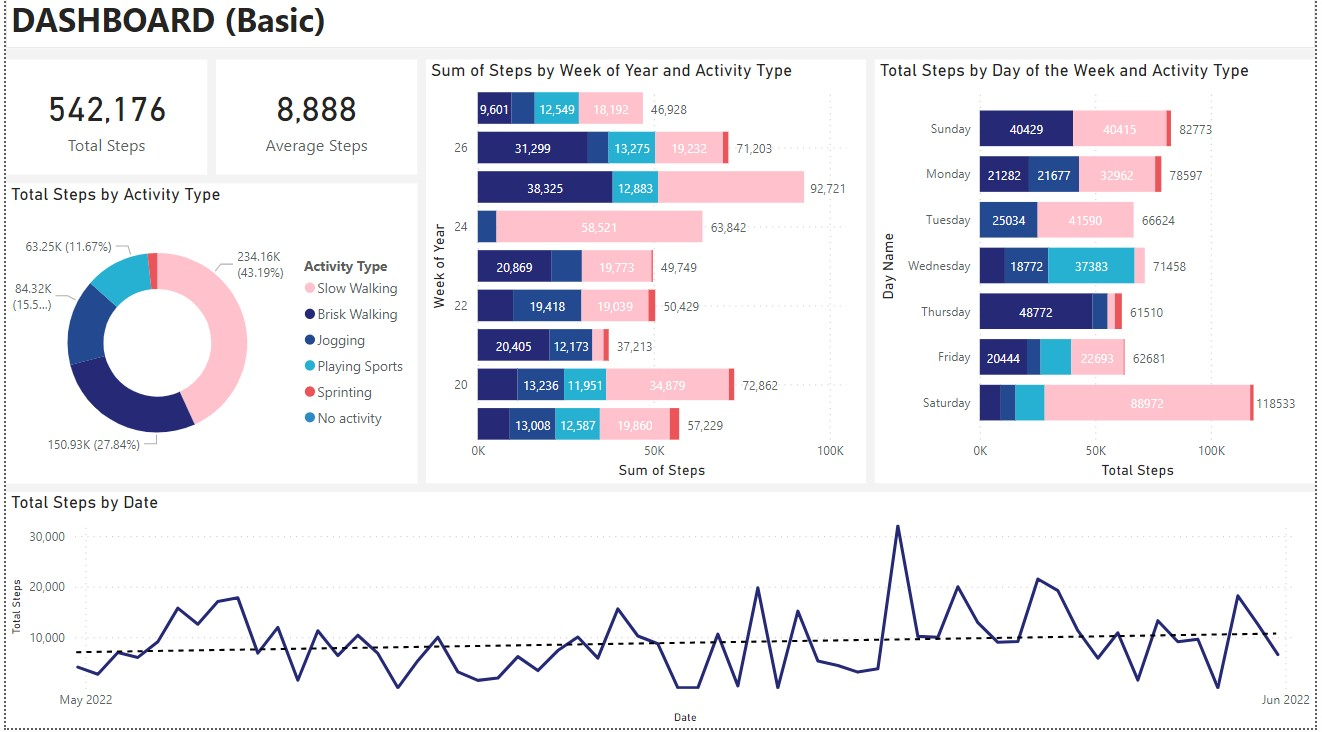

This screenshot's page, from the dashboard's own definition file:
{"tool":"powerbi","page":{"name":"Page 1","canvas":[1280,720],"ordinal":0},"visuals":[{"type":"card","fields":{"Values":["Calculation.Total Steps"]},"box":[0,66,196.8,112.5],"z":0},{"type":"card","fields":{"Values":["Calculation.Average Steps"]},"box":[205.4,66,196.8,112.5],"z":1000},{"type":"textbox","box":[0,0,1279.9,55],"z":2000},{"type":"donutChart","title":"Total Steps by Activity Type","fields":{"Category":["DIM_Activity.ActivityName"],"Y":["Calculation.Total Steps"]},"box":[0,187,402.2,293.4],"z":3000},{"type":"lineChart","fields":{"Y":["Calculation.Total Steps"],"Category":["FACT_Activity.Date"]},"box":[0,489,1279.9,231],"z":4000},{"type":"barChart","title":"Sum of Steps by Week of Year and Activity Type","fields":{"Category":["DIM_Date.Week of Year"],"Series":["DIM_Activity.ActivityName"],"Y":["Sum(FACT_Activity.Steps)"]},"box":[410.7,66,430,414.4],"z":5000},{"type":"barChart","title":"Total Steps by Day of the Week and Activity Type","fields":{"Series":["DIM_Activity.ActivityName"],"Category":["DIM_Date.Day Name"],"Y":["Calculation.Total Steps"]},"box":[849.6,66,430.3,414.4],"z":6000}]}

Visuals, with their boxes in screenshot pixels (x1, y1, x2, y2), scaled from the page's 1280x720 canvas onto the 1322x732 screenshot:
card - Calculation.Total Steps: locate(0, 67, 203, 181)
card - Calculation.Average Steps: locate(212, 67, 415, 181)
textbox: locate(0, 0, 1321, 56)
"Total Steps by Activity Type" donutChart: locate(0, 190, 415, 488)
lineChart - Calculation.Total Steps x FACT_Activity.Date: locate(0, 497, 1321, 731)
"Sum of Steps by Week of Year and Activity Type" barChart: locate(424, 67, 868, 488)
"Total Steps by Day of the Week and Activity Type" barChart: locate(877, 67, 1321, 488)
